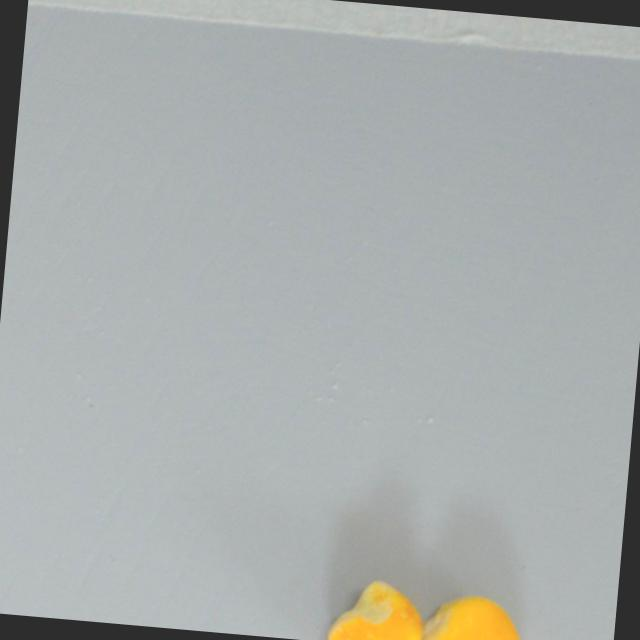no_canjicado: (404, 587, 535, 640), (325, 573, 427, 640)
